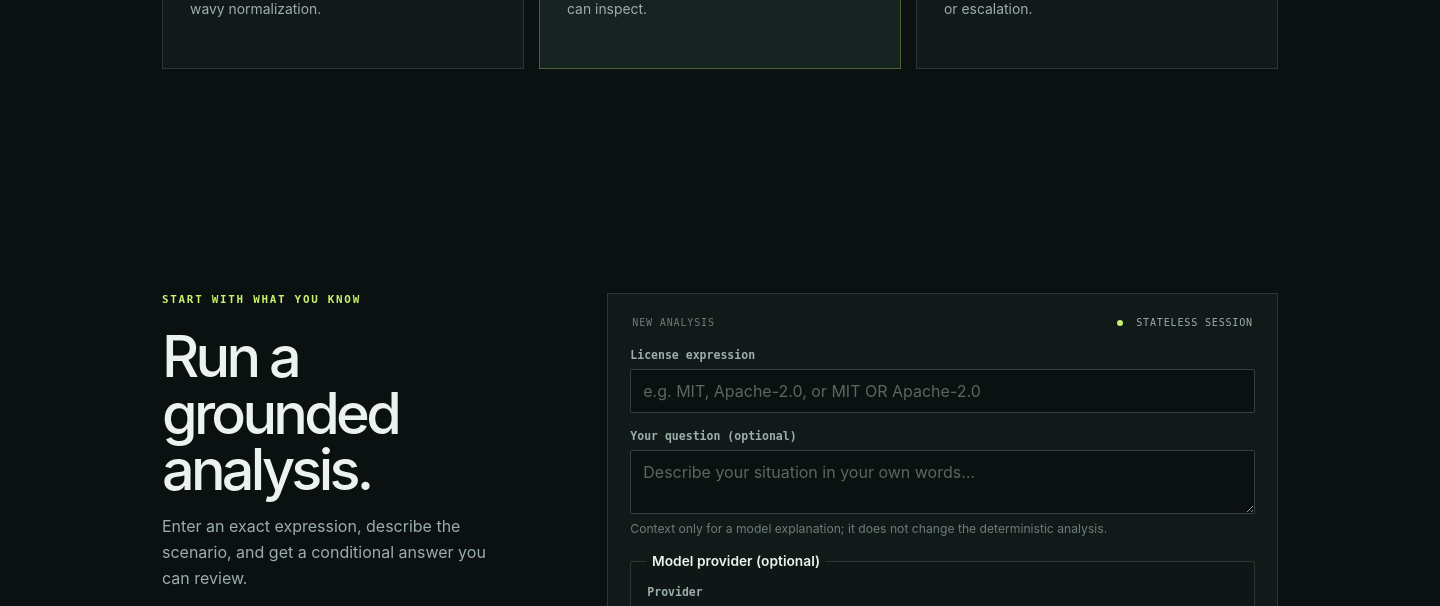
analysis experience › renders an invalid-key state for a 401 response
(page scrolled)
Type "Apache-2.0" into the field labelled "License expression" at (943,391), box 630,369 -> 1255,413
(page scrolled)
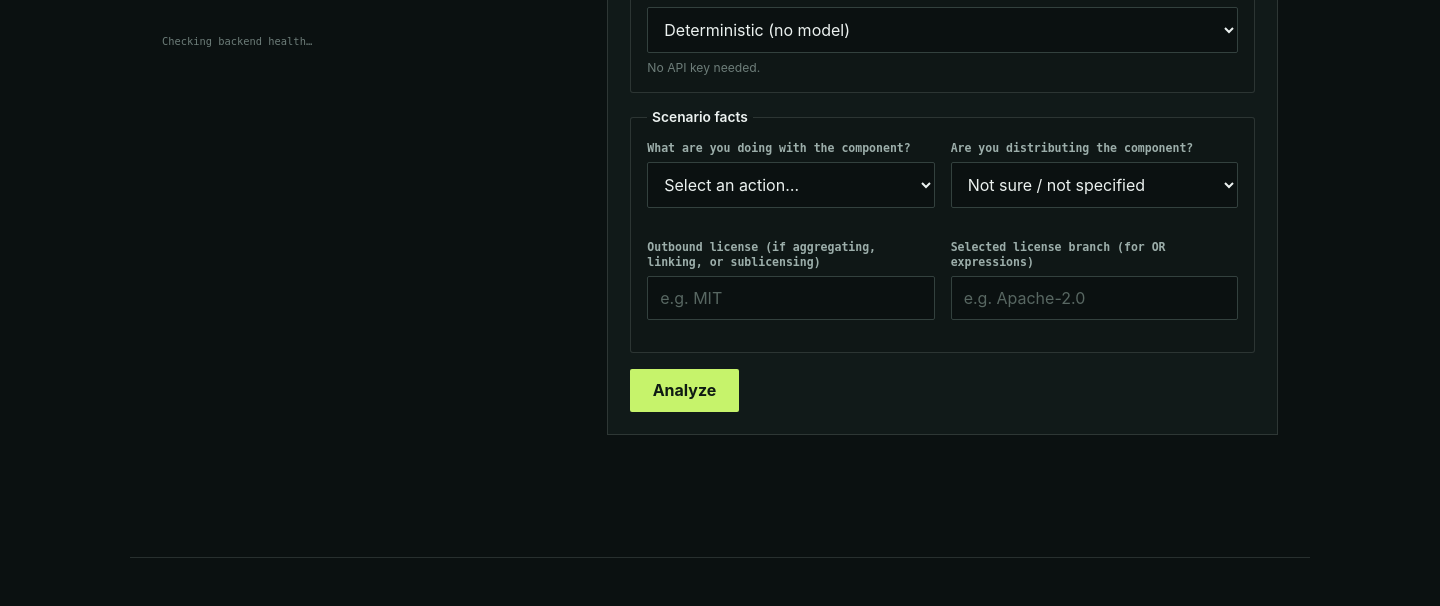
Click the button "Analyze" at (685,390), box 630,369 -> 739,412
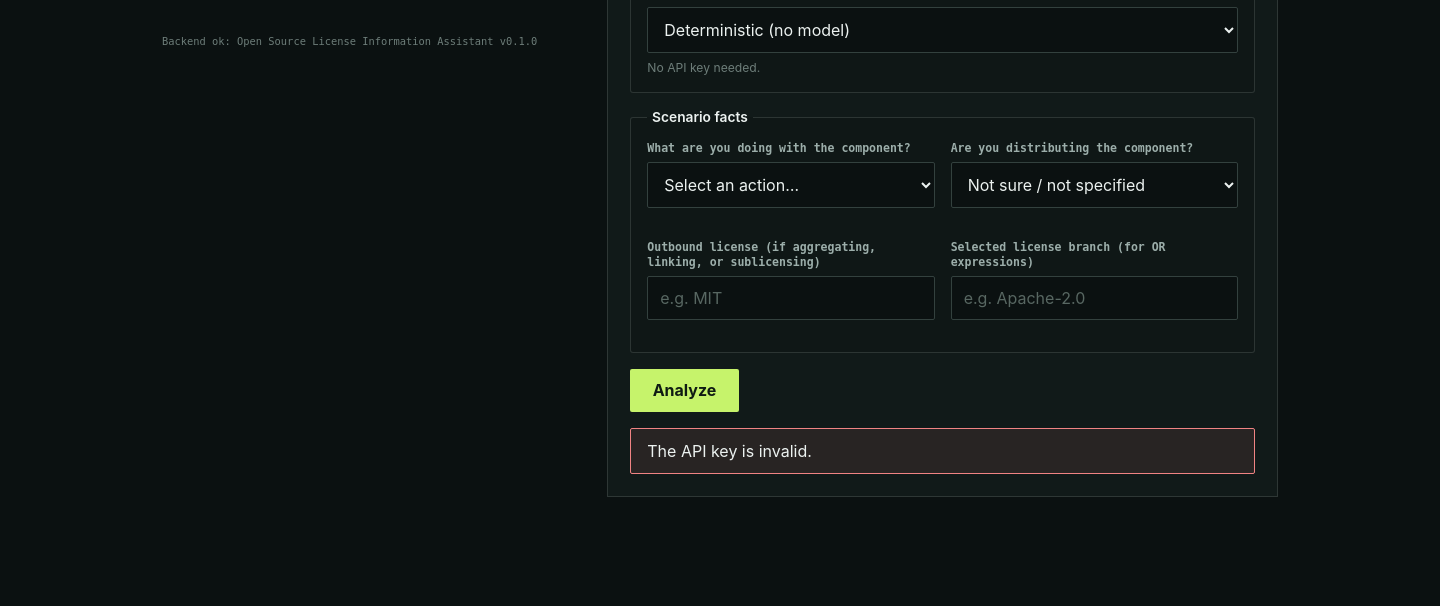
Check: the message "The API key is invalid." is shown, box 630,428 -> 1255,474
